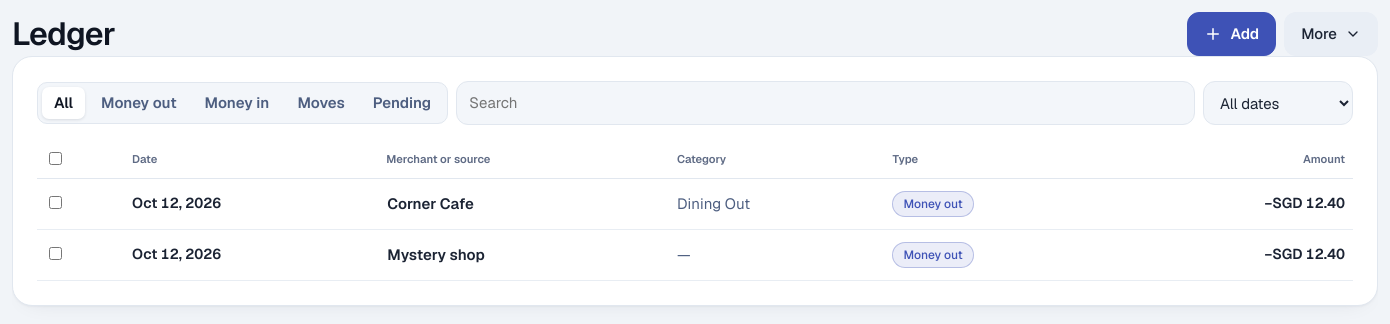
Test case: the Ledger header › closes More when something else is pressed
Expected: the button "Corner Cafe" is shown, [386,192,475,216]
Click the button "More" at (1331, 34), box [1284,12,1378,56]
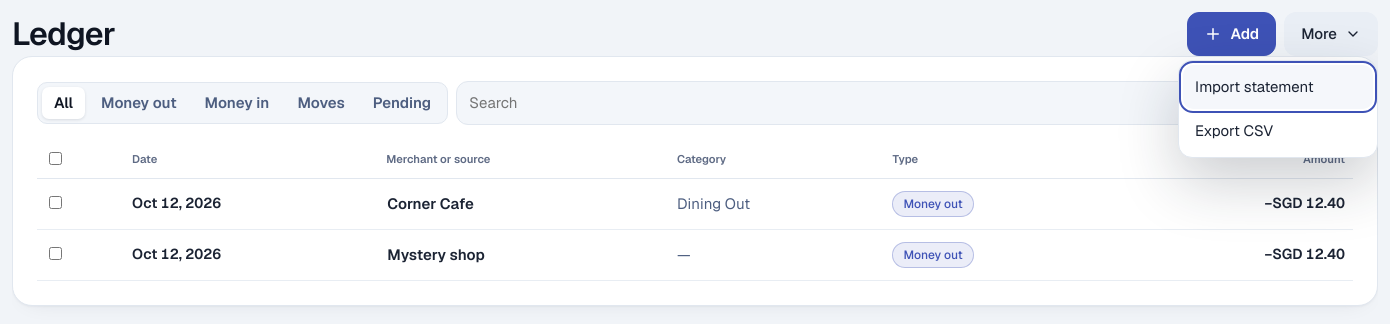
Result: the menu is shown at [1178,60,1378,158]
Click the search field at (826, 103), box [456,81,1195,125]
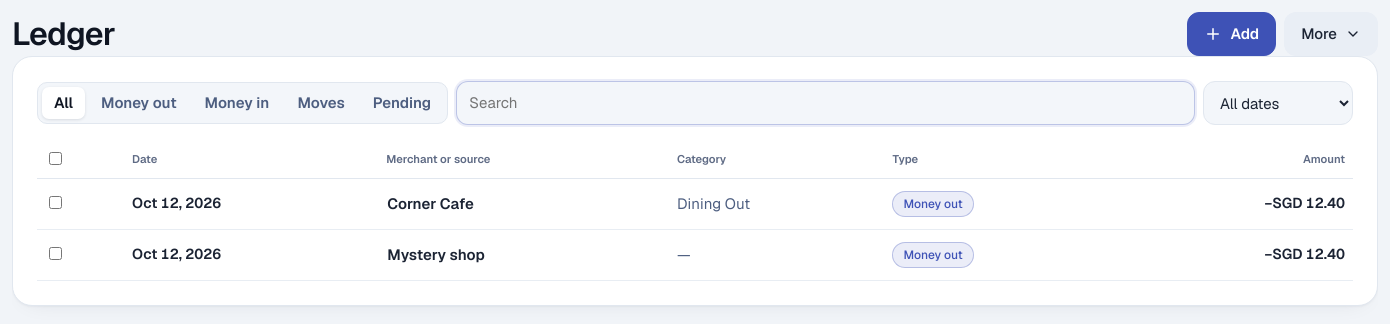
Result: the menu is gone
